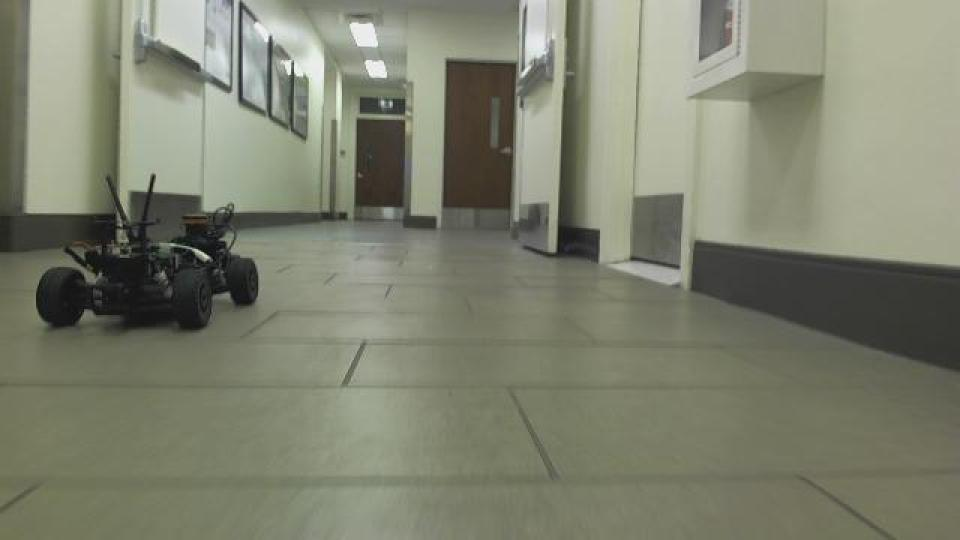car: (31, 169, 261, 333)
